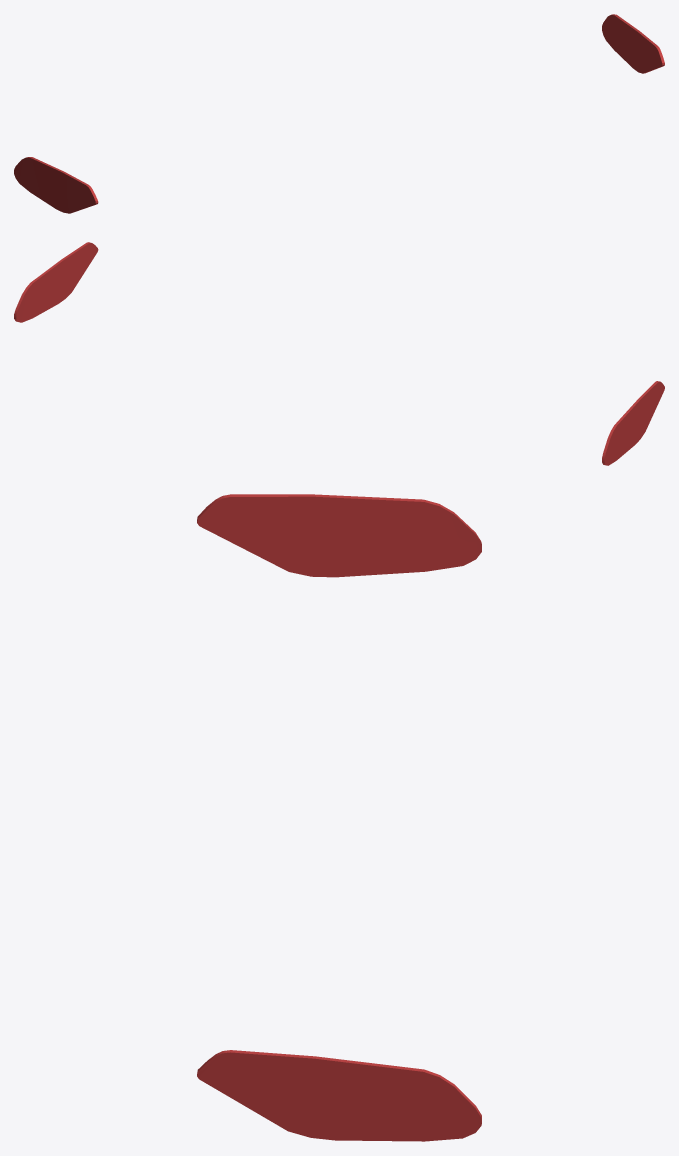
File: red_spoiler_part.fbx
The picture shows the model from 3 angles, top to bottom: view 1: azimuth 30°, elevation 25°; view 2: azimuth 150°, elevation 25°; view 3: azimuth 270°, elevation 25°; orthographic projection. The views are drawn at different scales.
Visible parts, largest first — view 1: Red_Parts; view 2: Red_Parts; view 3: Red_Parts.
Boxes of the visible parts, x1,y1,x2,y2 form: Red_Parts: (14,14,664,213); Red_Parts: (14,242,664,465); Red_Parts: (197,494,481,1141).
Bounding box in the file's own units: 149 × 10.16 × 31.17.
